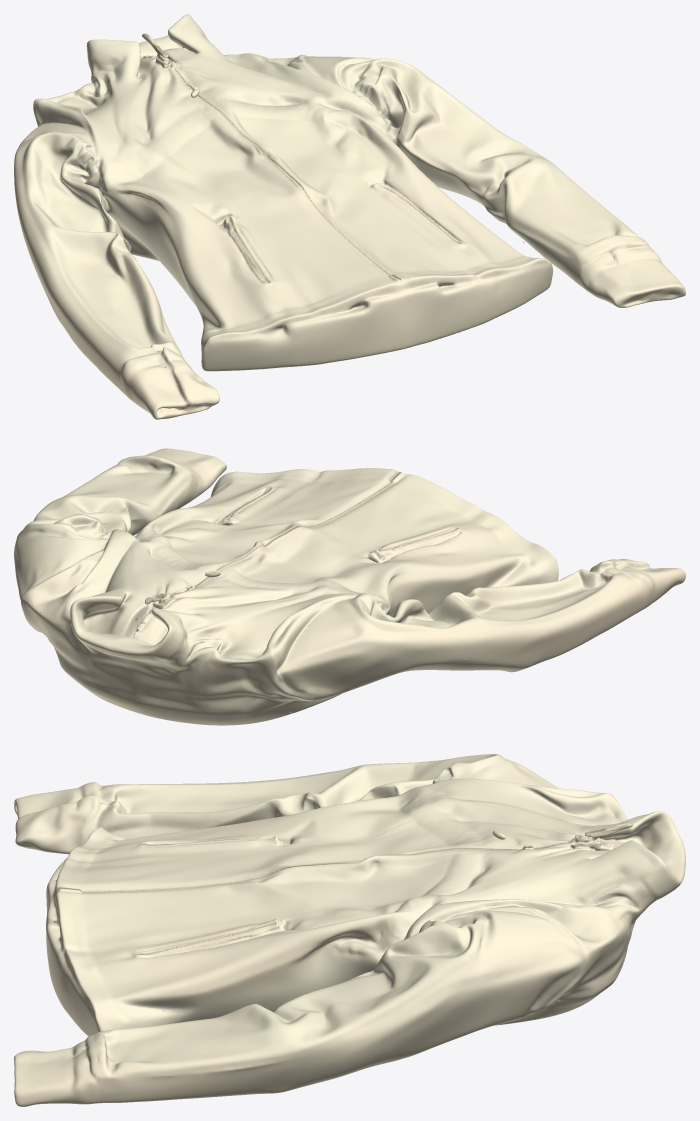
Rendered from ivory_rashguard.glb.
3 views of the same model, one above another, from view 1: azimuth 30°, elevation 25°; view 2: azimuth 150°, elevation 25°; view 3: azimuth 270°, elevation 25° (orthographic). The views are drawn at different scales.
Bounding box in the file's own units: 1.9 × 0.4353 × 1.86.
Materials: 1 (1 with a texture image).
